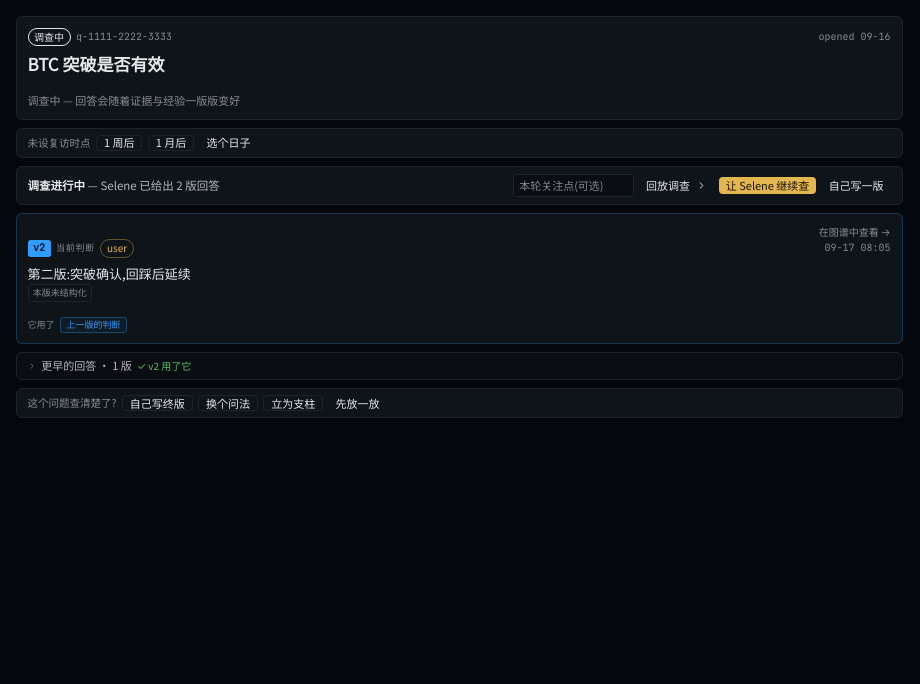
it: QuestionSurface v5 渐进披露 › J1: stub 2 条渲染恰好 2 条且含 CANARY 文本
expect the heading "BTC 突破是否有效" is shown: met, box [28,51,164,76]
Click the button "自己写一版": point(856, 185) [822,177,891,194]
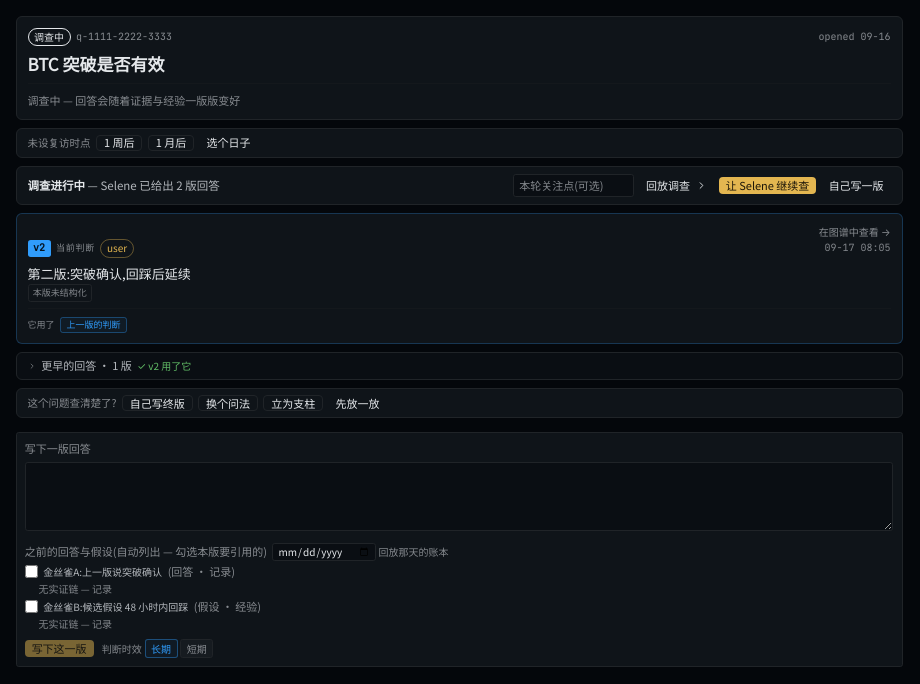
expect the text "金丝雀A:上一版说突破确认" is shown: met, box [43,565,162,579]
expect the text "金丝雀B:候选假设 48 小时内回踩" is shown: met, box [43,600,188,614]
expect the number of elements with test id "ledger-item" is 2: met, box [25,563,235,596]; [25,598,261,631]
